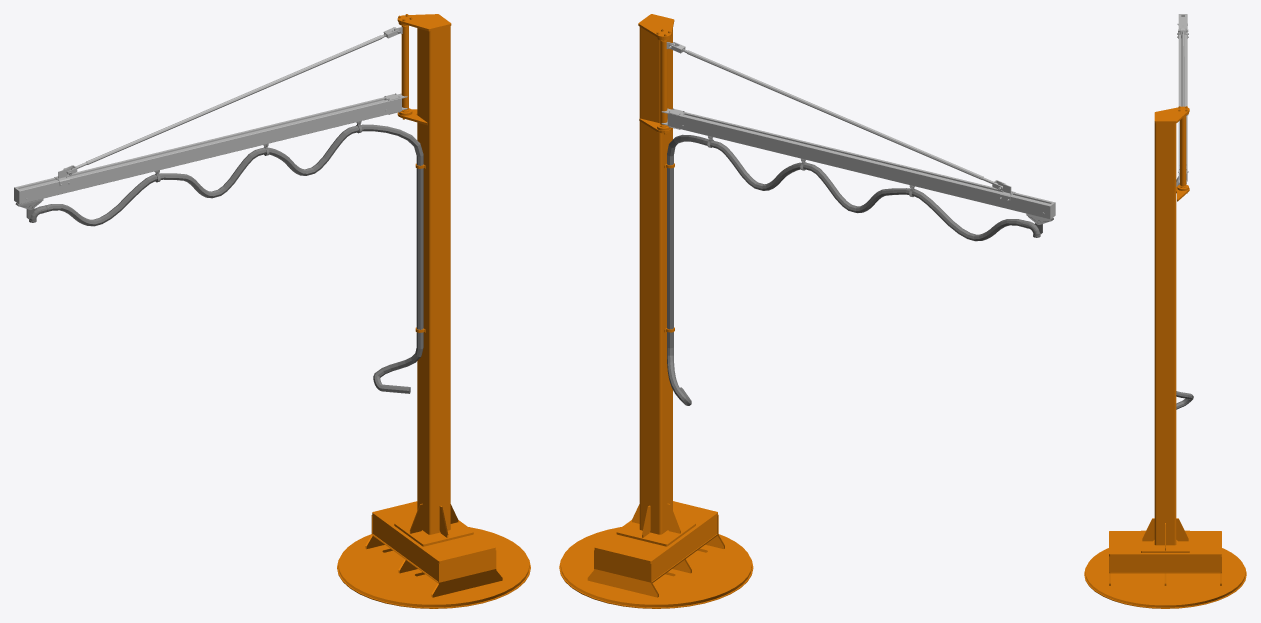
Rendered from aardwolf_all_part_Mobile Over Braced Jib Crane-One Arm@p1_-113_-111_0@p2_3067_-111_3378_X.fbx.
3 views of the same model, side by side, from view 1: azimuth 30°, elevation 25°; view 2: azimuth 150°, elevation 25°; view 3: azimuth 270°, elevation 25° (orthographic). The views are drawn at different scales.
Parts seen in each view (by area): view 1: aardwolf_all_part_obj330, aardwolf_all_part_obj329, aardwolf_all_part_obj332, Shape153, Shape154, aardwolf_all_part_obj331; view 2: aardwolf_all_part_obj330, aardwolf_all_part_obj329, aardwolf_all_part_obj332, Shape153, Shape154, aardwolf_all_part_obj331; view 3: aardwolf_all_part_obj330, aardwolf_all_part_obj329, aardwolf_all_part_obj332, aardwolf_all_part_obj331.
Boxes of the visible parts, box(x1,y1,x2,y2) form: aardwolf_all_part_obj330: box(397, 14, 451, 534); aardwolf_all_part_obj329: box(337, 501, 530, 608); aardwolf_all_part_obj332: box(14, 93, 407, 204); Shape153: box(48, 125, 358, 226); Shape154: box(361, 124, 423, 393); aardwolf_all_part_obj331: box(54, 27, 402, 186); aardwolf_all_part_obj330: box(638, 14, 674, 534); aardwolf_all_part_obj329: box(559, 501, 753, 608); aardwolf_all_part_obj332: box(661, 108, 1055, 219); Shape153: box(710, 140, 1021, 241); Shape154: box(667, 134, 708, 405); aardwolf_all_part_obj331: box(666, 42, 1015, 201); aardwolf_all_part_obj330: box(1154, 106, 1189, 545); aardwolf_all_part_obj329: box(1084, 518, 1246, 608); aardwolf_all_part_obj332: box(1177, 14, 1188, 183); aardwolf_all_part_obj331: box(1177, 25, 1188, 115).
Size of the model in its own units: 3856 by 4113 by 1320.
